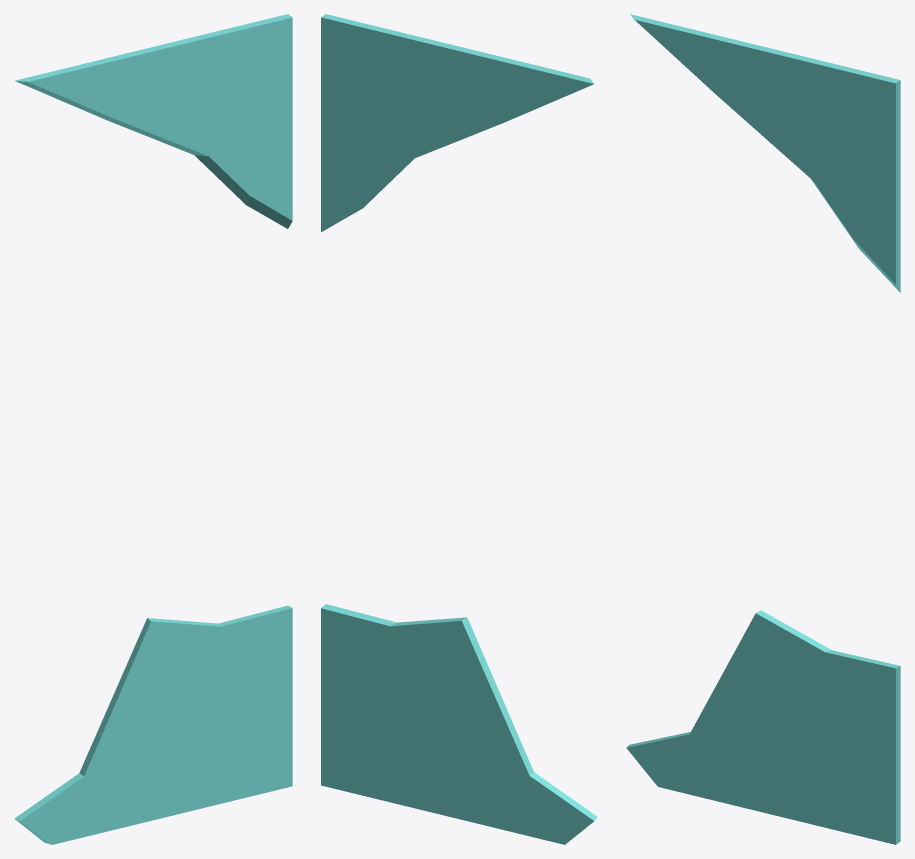
File: Glass Destroyed D.fbx
The picture shows the model from 3 angles, left to right: view 1: azimuth 30°, elevation 25°; view 2: azimuth 150°, elevation 25°; view 3: azimuth 330°, elevation 25°; orthographic projection.
Visible parts, largest first — view 1: Glass Destroyed D; view 2: Glass Destroyed D; view 3: Glass Destroyed D.
Part boxes in pixels (x1=…): Glass Destroyed D: x1=14, y1=14, x2=292, y2=844; Glass Destroyed D: x1=321, y1=14, x2=597, y2=844; Glass Destroyed D: x1=626, y1=14, x2=900, y2=844.
Size of the model in its own units: 0.3352 by 0.9 by 0.01.
